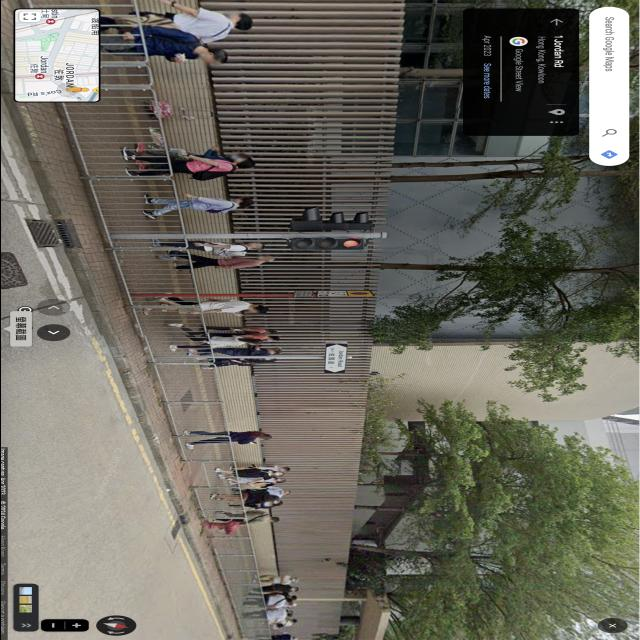Order-Sign: (316, 290, 374, 297)
Street-Direction-Sign: (323, 344, 345, 372)
